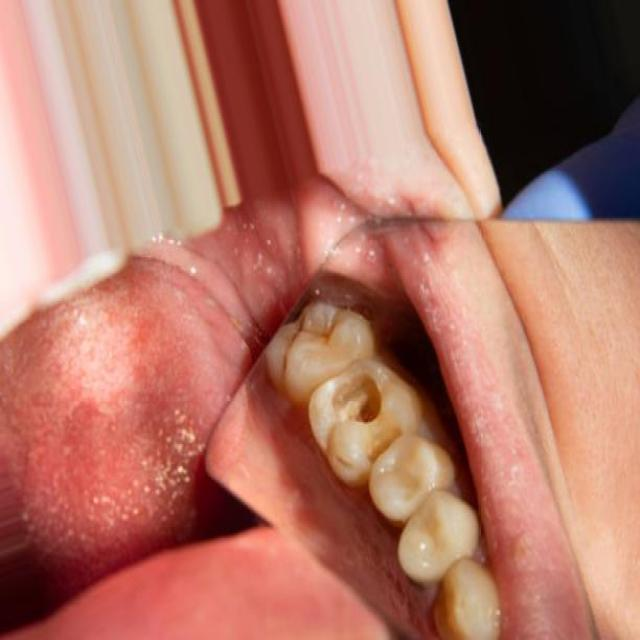caries: (318, 356, 403, 469)
